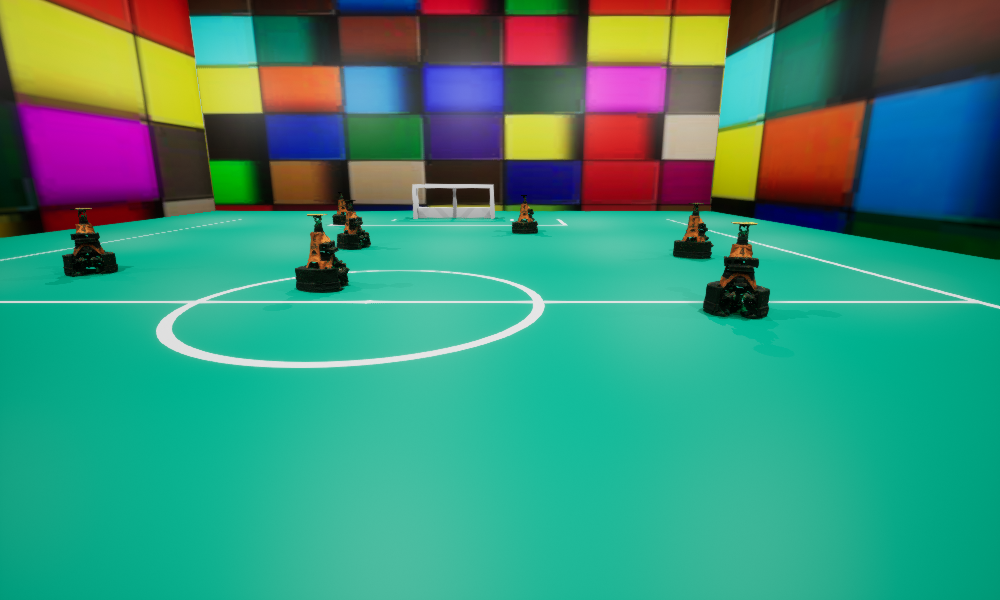0 orange robot TechUnited: (703, 222, 769, 317), (295, 214, 349, 292), (62, 208, 117, 276), (673, 203, 713, 258), (337, 200, 370, 249), (512, 195, 537, 233), (332, 192, 353, 224)
